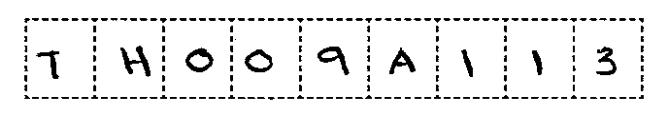0: (182, 40, 218, 81), (239, 43, 280, 76)
1: (453, 43, 483, 81), (522, 43, 551, 79)
3: (589, 40, 620, 82)
9: (315, 41, 355, 80)
A: (380, 44, 421, 80)
H: (113, 41, 157, 82)
T: (33, 45, 70, 85)
